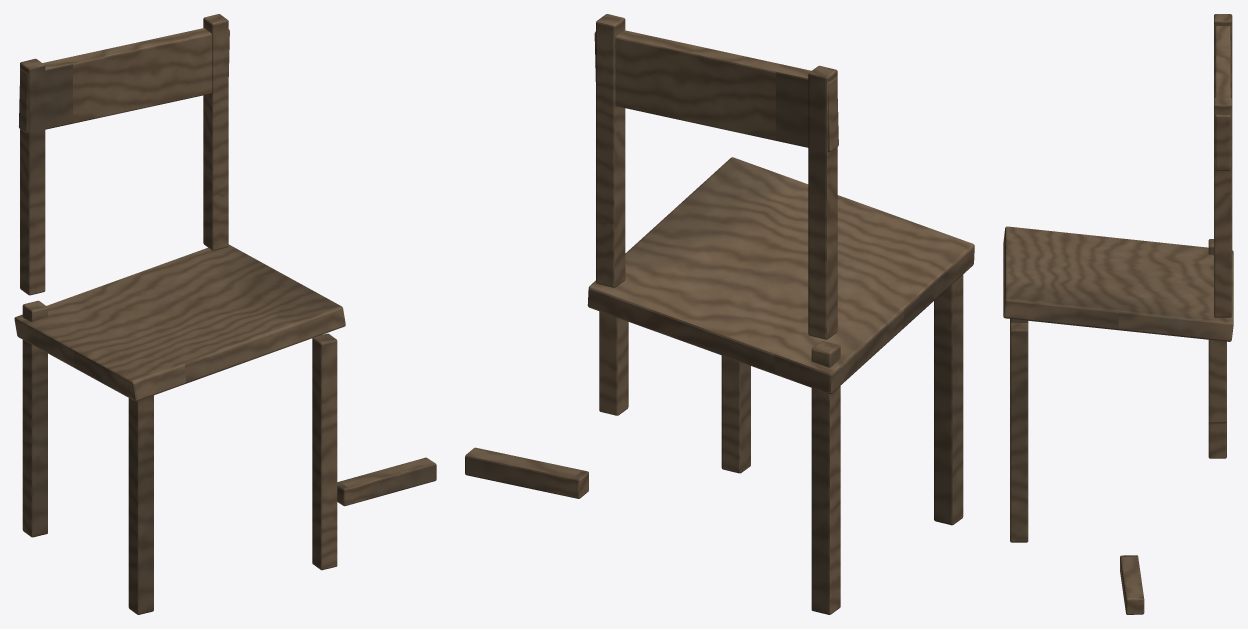
File: BR01_broken_chair_v4.glb
The picture shows the model from 3 angles, left to right: view 1: azimuth 30°, elevation 25°; view 2: azimuth 150°, elevation 25°; view 3: azimuth 270°, elevation 25°; orthographic projection. The views are drawn at different scales.
Visible parts, largest first — view 1: BR01_broken_chair_v4; view 2: BR01_broken_chair_v4; view 3: BR01_broken_chair_v4.
Part boxes in pixels (box(x1,y1,x2,y2)): BR01_broken_chair_v4: box(14, 14, 436, 614); BR01_broken_chair_v4: box(465, 14, 974, 614); BR01_broken_chair_v4: box(1003, 14, 1233, 614).
Bounding box in the file's own units: 0.7431 × 0.9 × 0.4289.
1 material, 1 textured.
